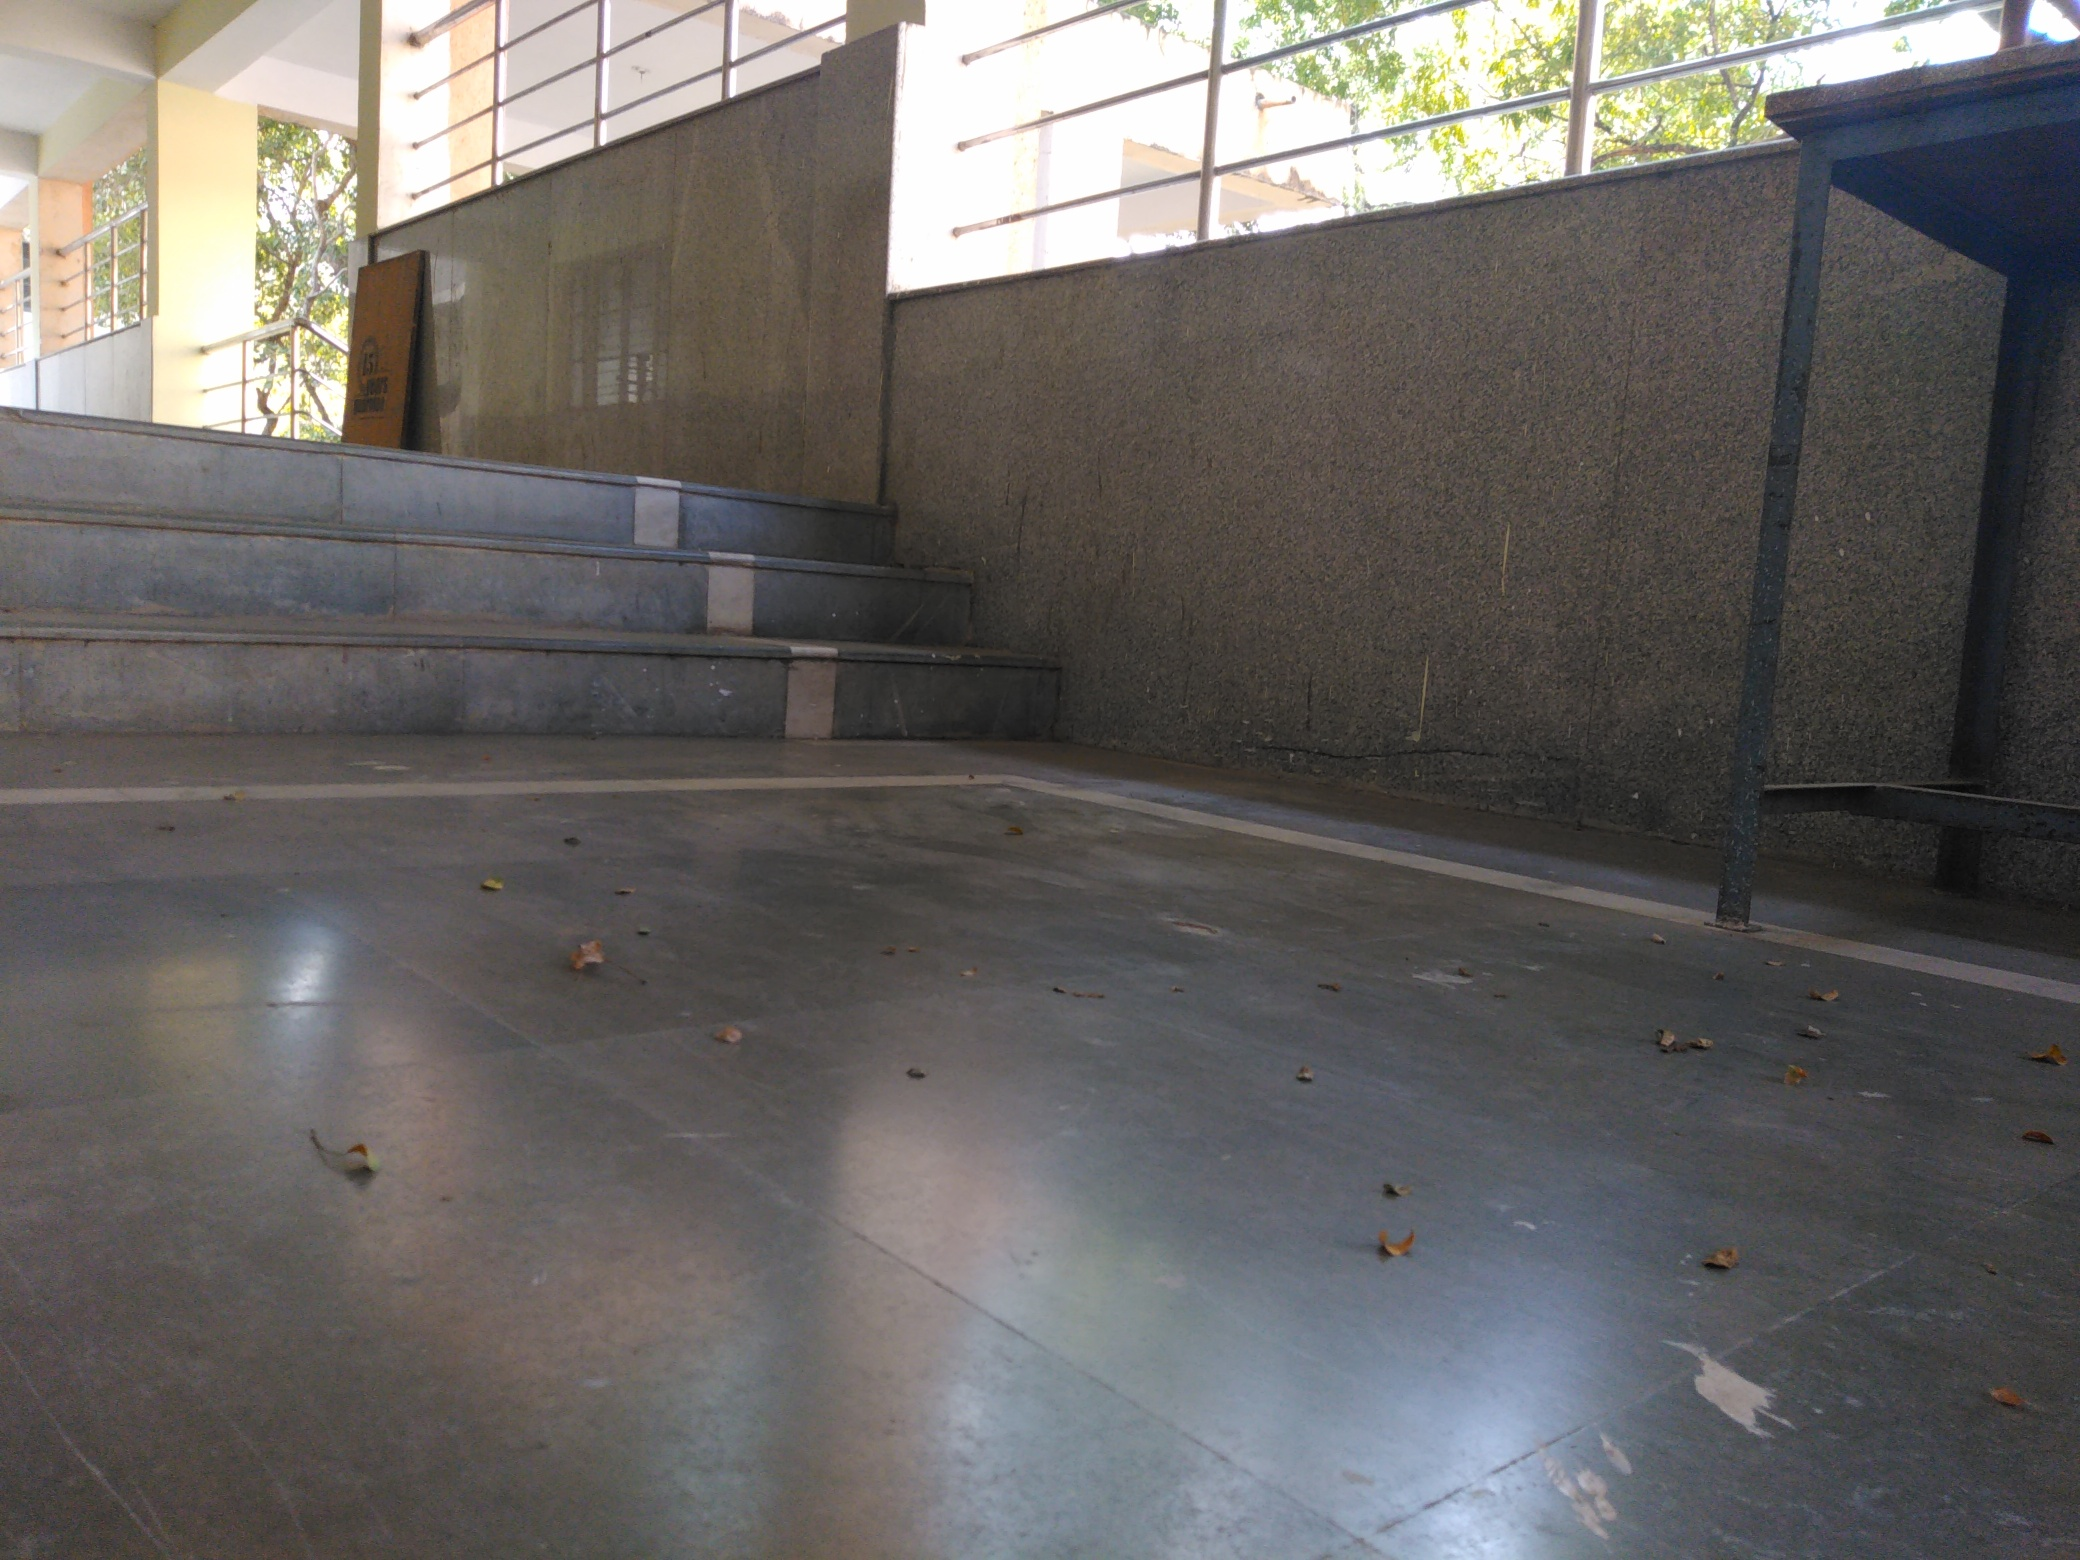stairs_up: (39, 392, 948, 772)
